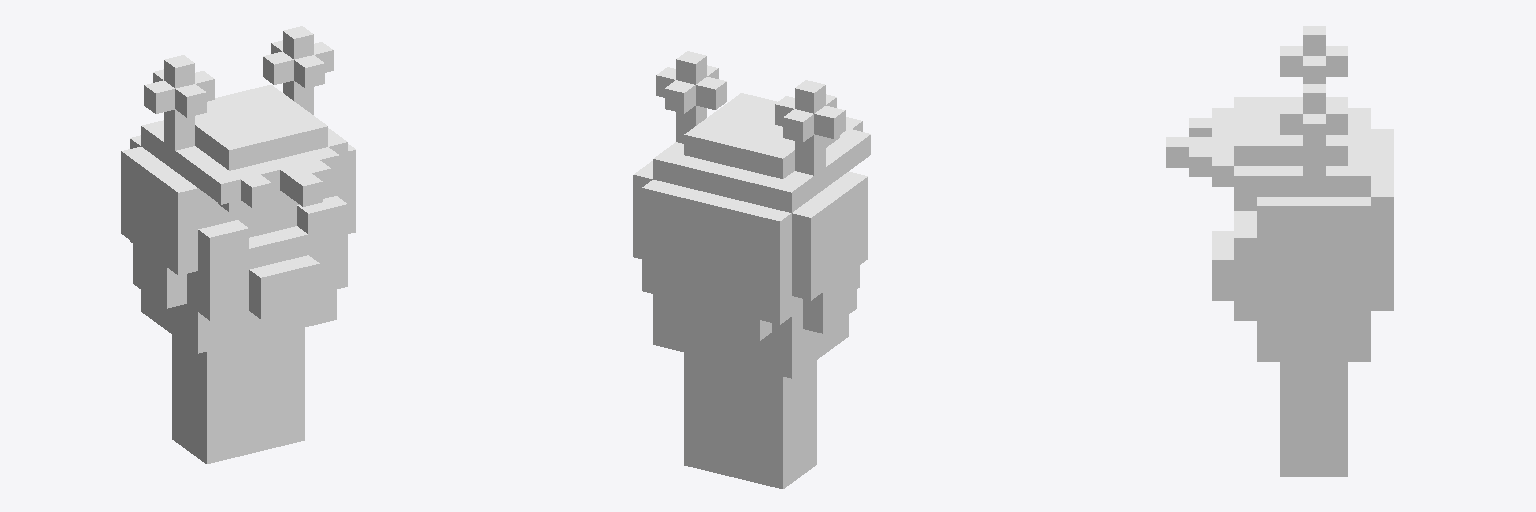
File: gglive_boy_main.obj
3 views of the same model, side by side, from view 1: azimuth 30°, elevation 25°; view 2: azimuth 150°, elevation 25°; view 3: azimuth 270°, elevation 25° (orthographic).
Parts seen in each view (by area): view 1: gglive_boy_main; view 2: gglive_boy_main; view 3: gglive_boy_main.
Part boxes in pixels (x1,y1,x2,y2): gglive_boy_main: (121, 26, 355, 463); gglive_boy_main: (633, 51, 870, 488); gglive_boy_main: (1166, 26, 1393, 476).
Bounding box in the file's own units: 9 × 19 × 10.